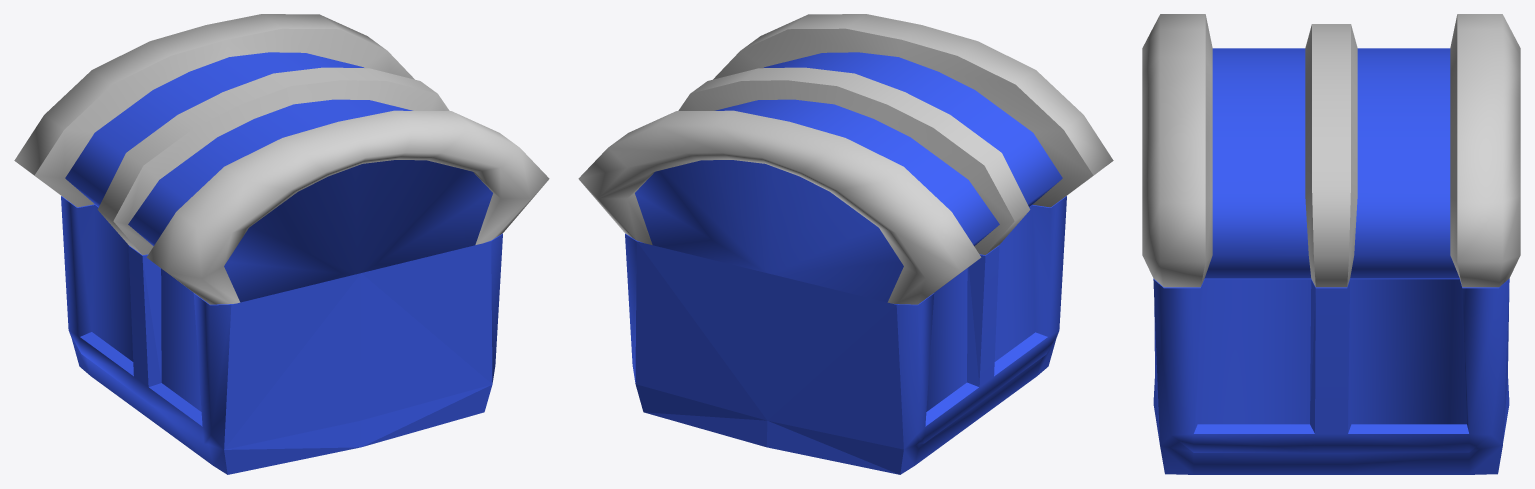
File: Chest.FBX
3 views of the same model, side by side, from view 1: azimuth 30°, elevation 25°; view 2: azimuth 150°, elevation 25°; view 3: azimuth 270°, elevation 25° (orthographic). The views are drawn at different scales.
Visible parts, largest first — view 1: Object002, Object001; view 2: Object002, Object001; view 3: Object002, Object001.
Boxes of the visible parts, x1,y1,x2,y2 form: Object002: (14,14,549,304); Object001: (61,196,502,474); Object002: (578,14,1113,304); Object001: (625,196,1066,474); Object002: (1142,14,1520,287); Object001: (1153,278,1509,474).
Bounding box in the file's own units: 94.23 × 72.78 × 71.78.
